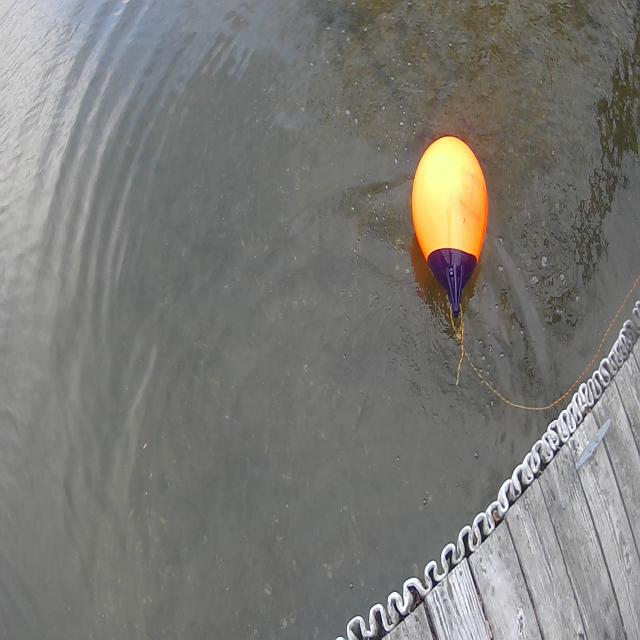Buoy: (405, 121, 499, 328)
